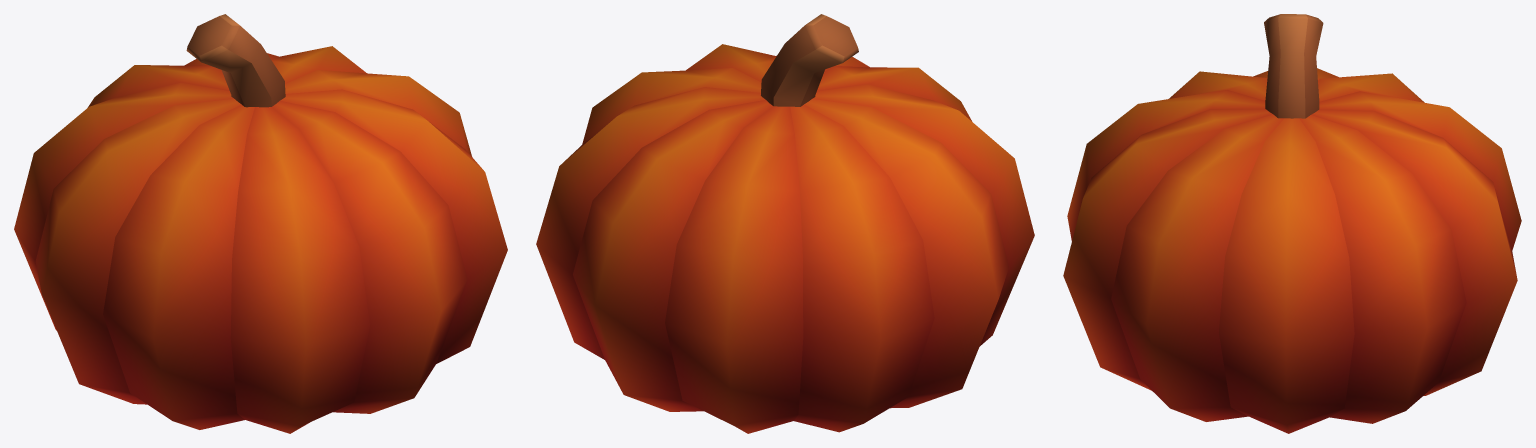
The model's file is Pumpink.fbx.
3 views of the same model, side by side, from view 1: azimuth 30°, elevation 25°; view 2: azimuth 150°, elevation 25°; view 3: azimuth 270°, elevation 25° (orthographic). The views are drawn at different scales.
Parts seen in each view (by area): view 1: Pumpink; view 2: Pumpink; view 3: Pumpink.
Part boxes in pixels (bbox=[...]): Pumpink: bbox=[14, 14, 507, 433]; Pumpink: bbox=[536, 14, 1034, 433]; Pumpink: bbox=[1063, 14, 1521, 433].
Bounding box in the file's own units: 115 × 93.68 × 110.
